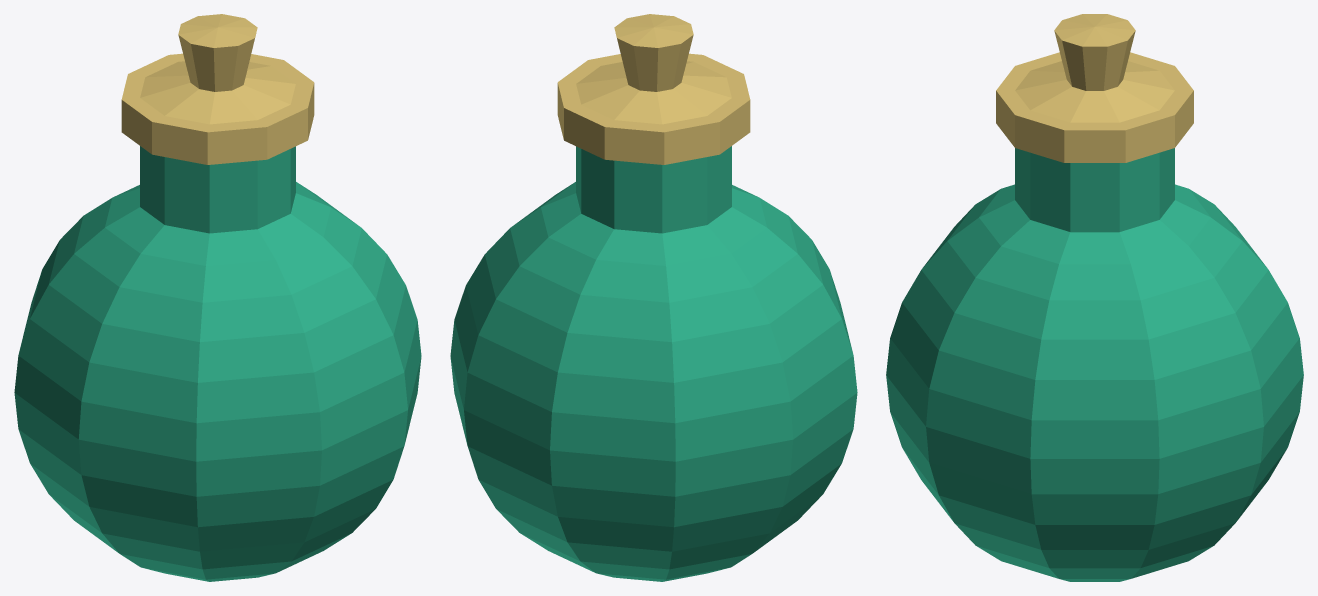
File: botella_redonda.fbx
3 renders of one model, left to right at view 1: azimuth 30°, elevation 25°; view 2: azimuth 150°, elevation 25°; view 3: azimuth 270°, elevation 25°, orthographic.
Visible parts, largest first — view 1: botella_redonda; view 2: botella_redonda; view 3: botella_redonda.
Boxes of the visible parts, <box> form: botella_redonda: <box>14,14,421,581</box>; botella_redonda: <box>450,14,857,581</box>; botella_redonda: <box>886,14,1303,581</box>.
Size of the model in its own units: 190 by 284 by 200.
